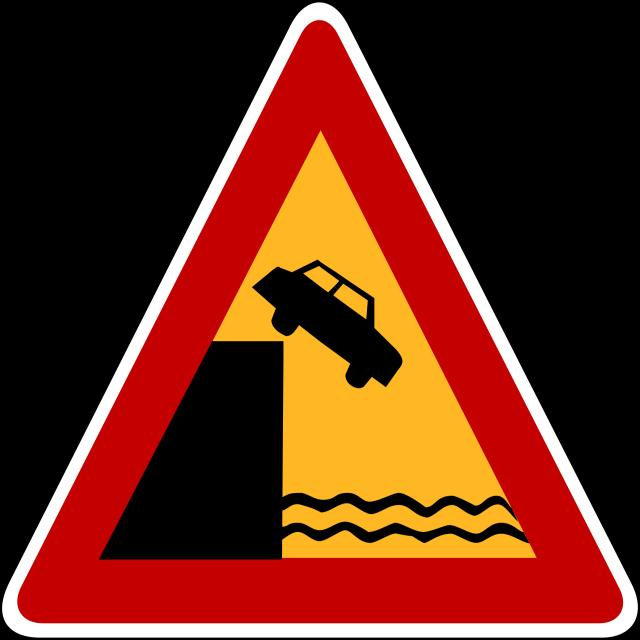Riverside_drive: (0, 0, 638, 640)
